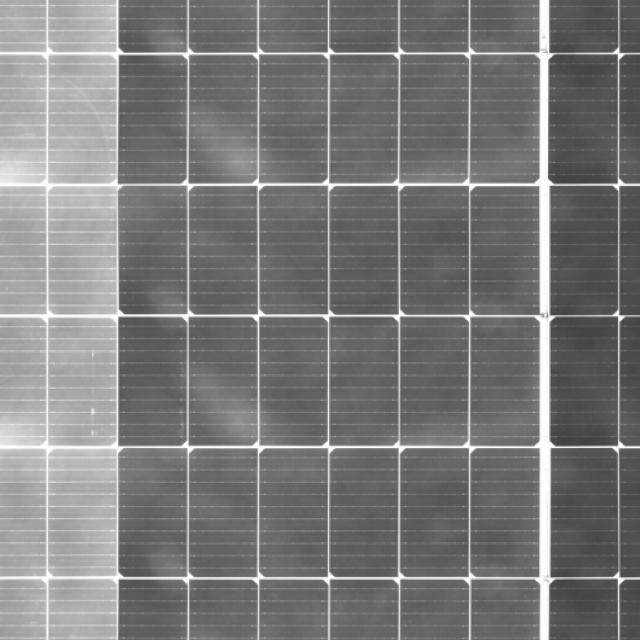CORRECT: (19, 10, 506, 640), (288, 3, 640, 630)
